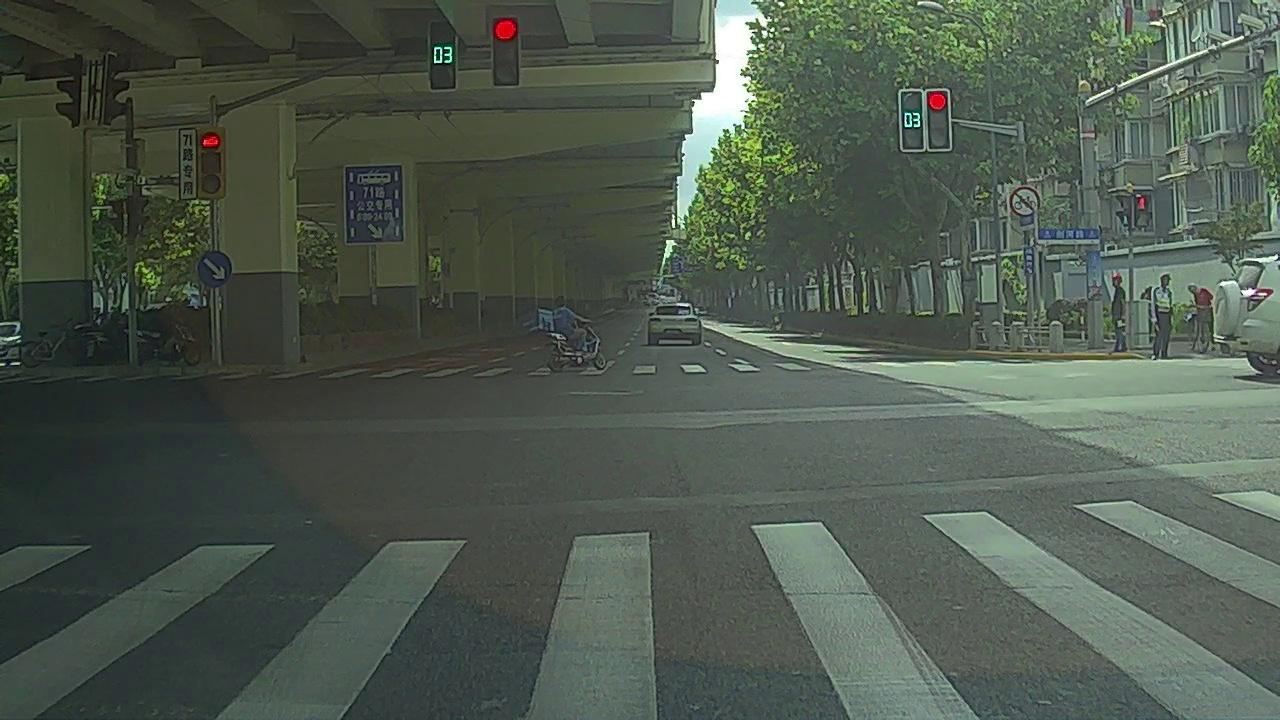traffic_light: (429, 21, 456, 90), (493, 18, 519, 86), (926, 91, 949, 149), (900, 90, 922, 149)
